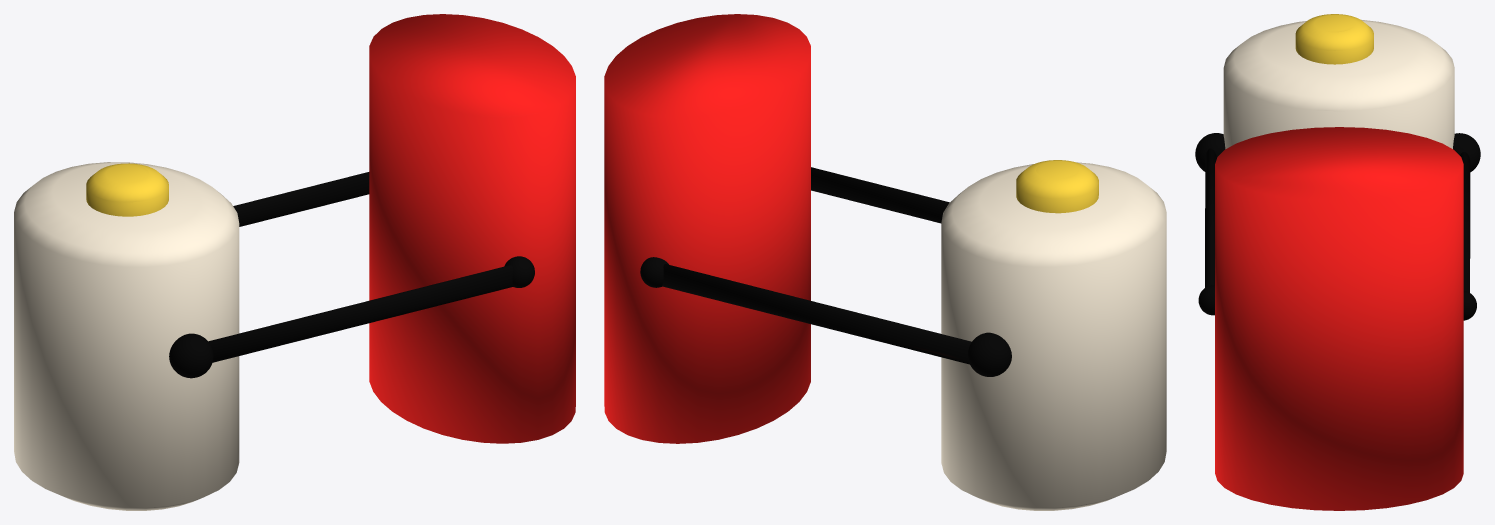
Rendered from CrusherColouredBetter.fbx.
3 renders of one model, left to right at view 1: azimuth 30°, elevation 25°; view 2: azimuth 150°, elevation 25°; view 3: azimuth 270°, elevation 25°, orthographic. The views are drawn at different scales.
Parts seen in each view (by area): view 1: Cube; view 2: Cube; view 3: Cube.
Boxes of the visible parts, x1=… form: Cube: x1=14, y1=14, x2=575, y2=510; Cube: x1=604, y1=14, x2=1166, y2=510; Cube: x1=1195, y1=14, x2=1480, y2=510.
Size of the model in its own units: 550 by 353 by 275.
